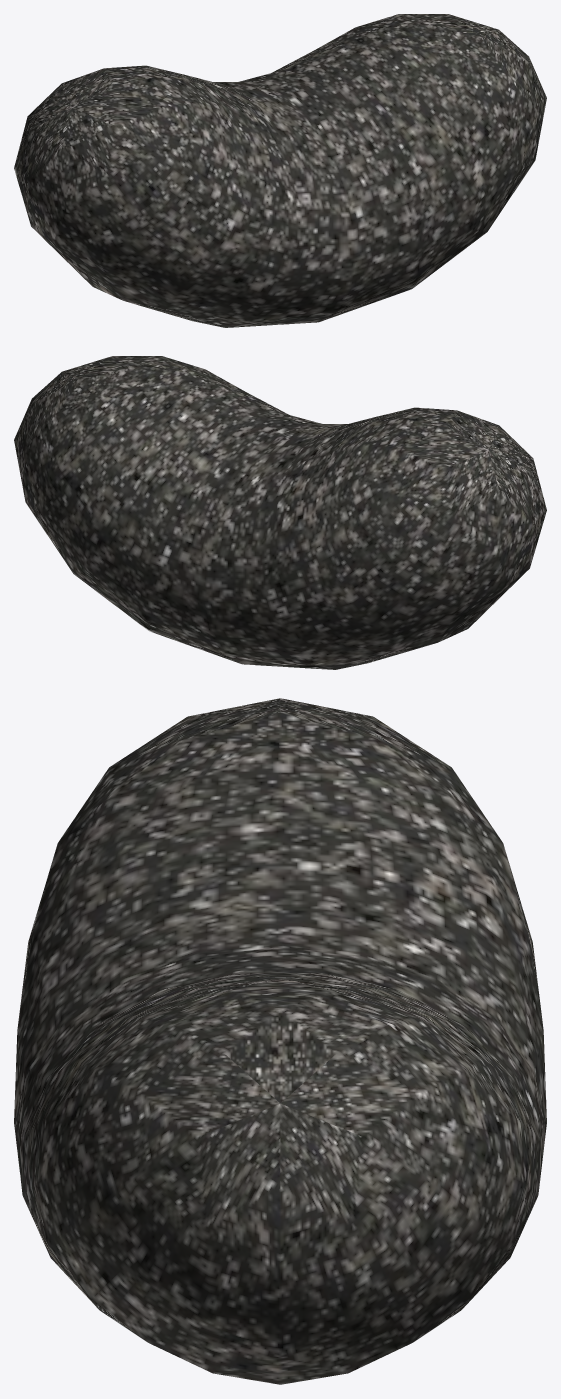
File: JumpingBean.FBX
3 renders of one model, top to bottom at view 1: azimuth 30°, elevation 25°; view 2: azimuth 150°, elevation 25°; view 3: azimuth 270°, elevation 25°, orthographic. The views are drawn at different scales.
Visible parts, largest first — view 1: JumpingBean; view 2: JumpingBean; view 3: JumpingBean.
Boxes of the visible parts, bbox=[...] form: JumpingBean: bbox=[14, 14, 546, 327]; JumpingBean: bbox=[14, 356, 546, 669]; JumpingBean: bbox=[14, 698, 546, 1384].
Size of the model in its own units: 31.03 by 15.43 by 16.38.
Materials: 1 (1 with a texture image).
